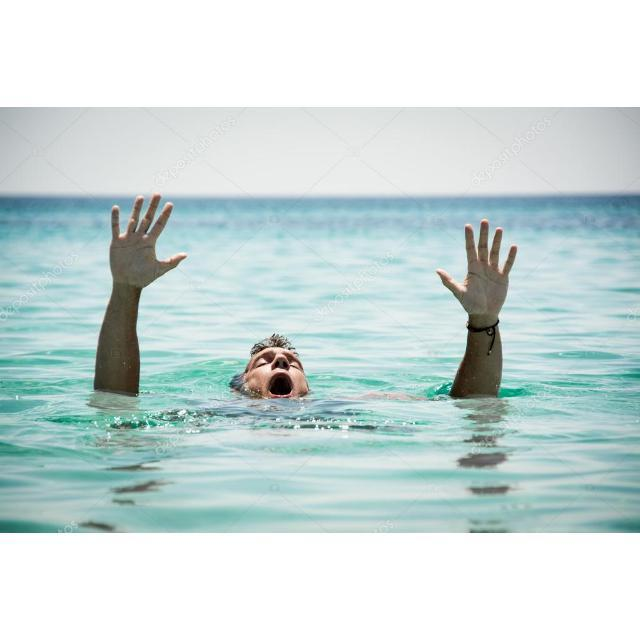human: (95, 188, 520, 403)
